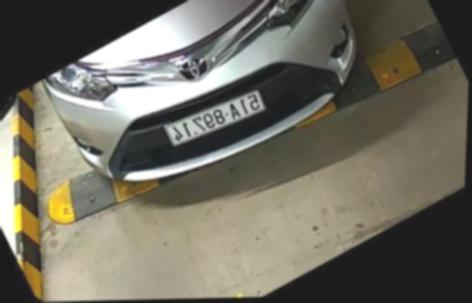License_Plate: (160, 89, 264, 154)
